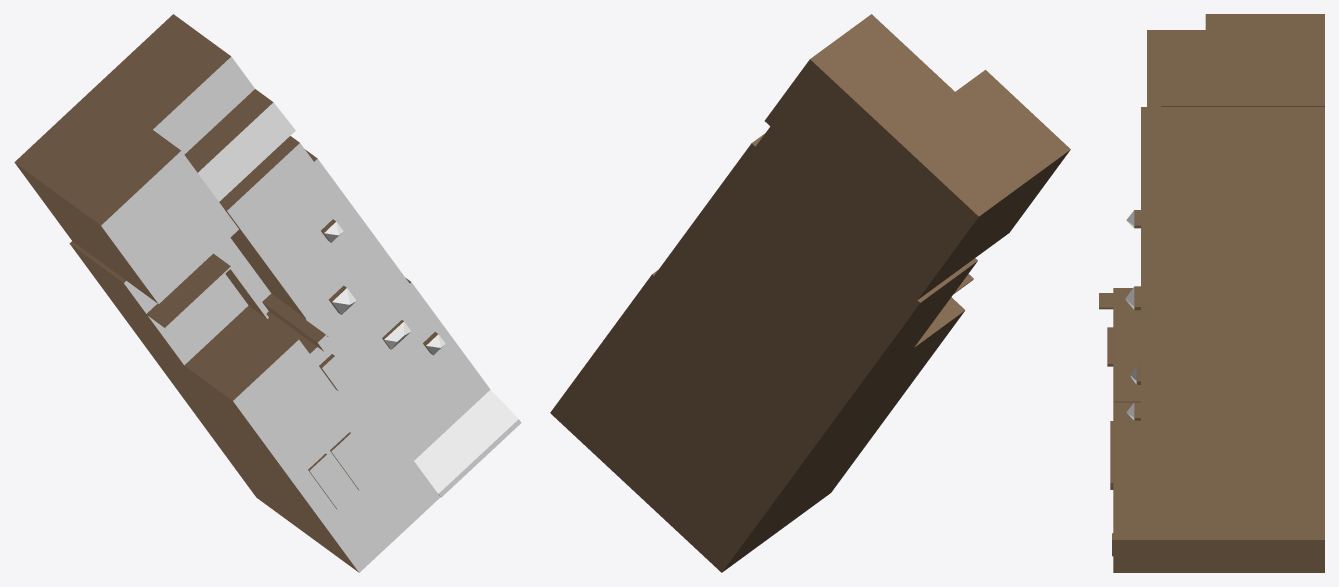
The picture shows the model from 3 angles, left to right: view 1: azimuth 30°, elevation 25°; view 2: azimuth 150°, elevation 25°; view 3: azimuth 270°, elevation 25°; orthographic projection. The views are drawn at different scales.
Visible parts, largest first — view 1: City_PC-19814; view 2: City_PC-19814; view 3: City_PC-19814.
Boxes of the visible parts, bbox=[...] form: City_PC-19814: bbox=[14, 14, 521, 572]; City_PC-19814: bbox=[550, 14, 1070, 572]; City_PC-19814: bbox=[1099, 14, 1324, 572].
Bounding box in the file's own units: 3204 × 3821 × 1511.
